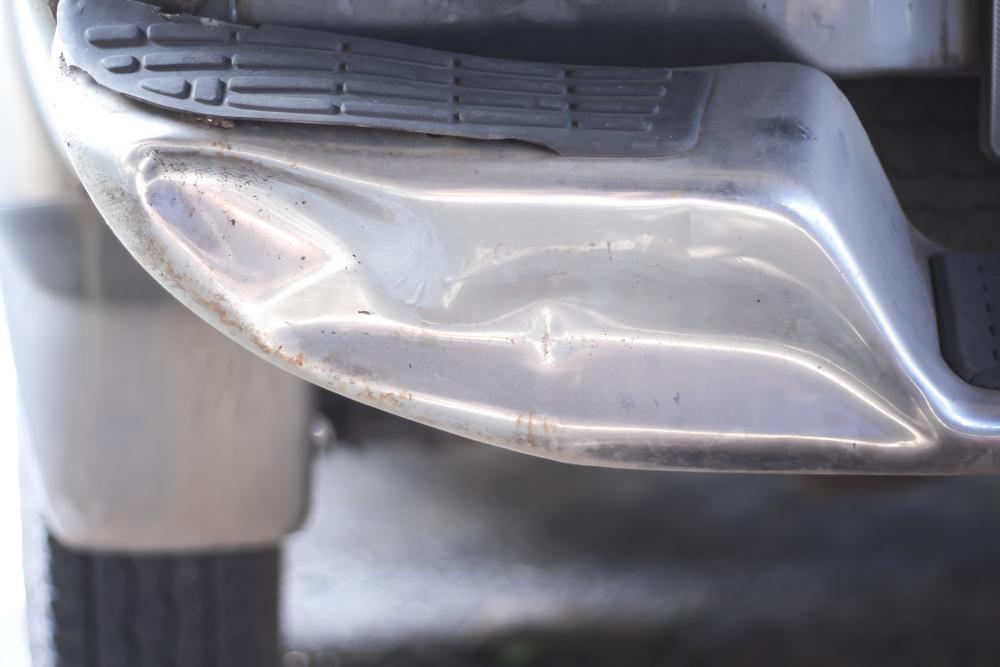dent: (144, 141, 937, 447)
